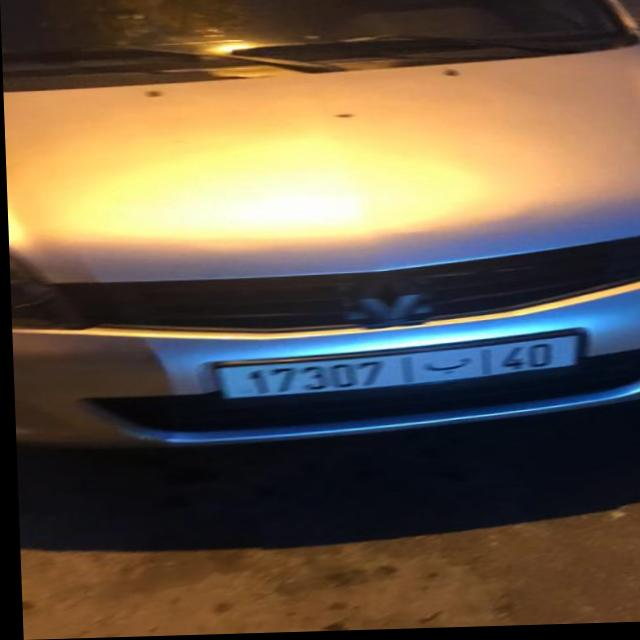License-Plate: (213, 338, 577, 399)
